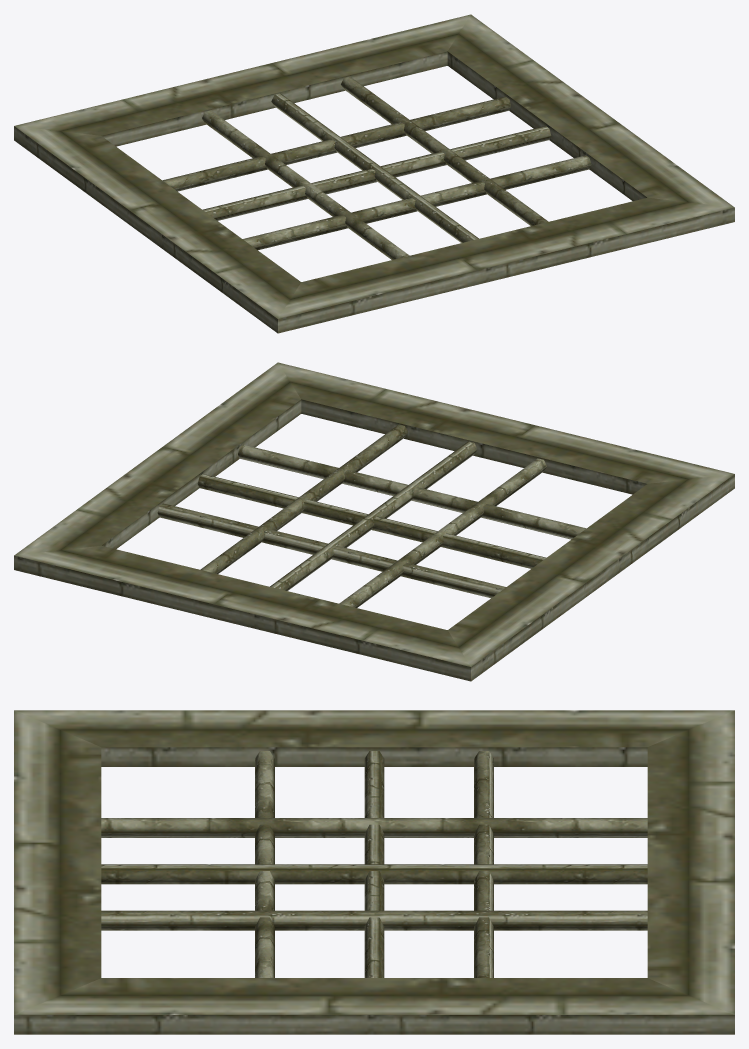
Rendered from floor-grid-01.fbx.
3 renders of one model, top to bottom at view 1: azimuth 30°, elevation 25°; view 2: azimuth 150°, elevation 25°; view 3: azimuth 270°, elevation 25°, orthographic. The views are drawn at different scales.
Visible parts, largest first — view 1: Cube.258; view 2: Cube.258; view 3: Cube.258.
Part boxes in pixels (left/top/right/bottom): Cube.258: left=14, top=14, right=734, bottom=333; Cube.258: left=14, top=362, right=734, bottom=681; Cube.258: left=14, top=710, right=734, bottom=1034.
Size of the model in its own units: 1.32 by 0.0398 by 1.32.
